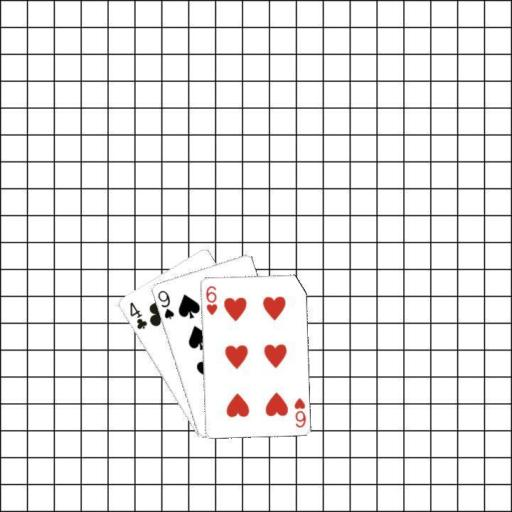card-corner: (154, 287, 176, 321), (126, 298, 148, 330), (202, 282, 218, 316), (291, 394, 307, 428)
